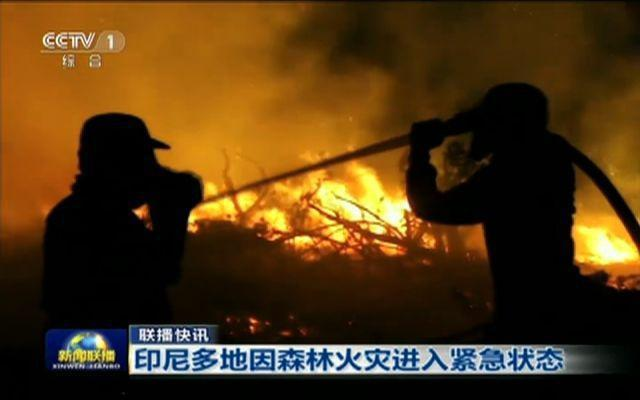fire: (183, 146, 419, 260), (570, 212, 638, 275)
